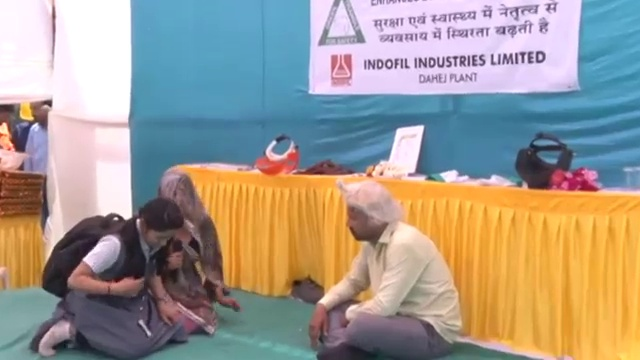helmet: (0, 150, 31, 173)
helmet_off: (337, 184, 404, 254), (134, 197, 184, 251), (163, 175, 206, 237), (30, 95, 54, 129), (0, 100, 16, 133)
person: (301, 180, 468, 360), (18, 205, 197, 354), (131, 181, 235, 342), (21, 98, 57, 191)
